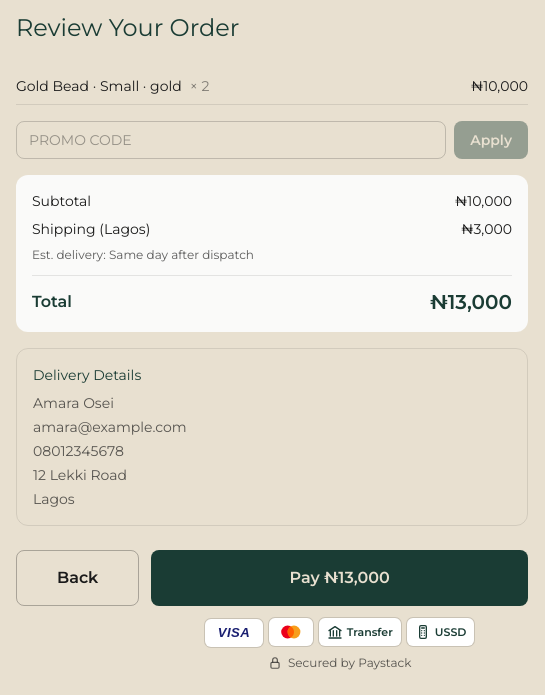
OrderReview — promo code (free shipping) › shows success message after applying a valid free-shipping code
Expected: the text "₦3,000" is shown, [461, 219, 512, 239]
Step 1. Type "FREESHIP" into the field with placeholder "Promo code" → [231, 140], box [16, 121, 446, 159]
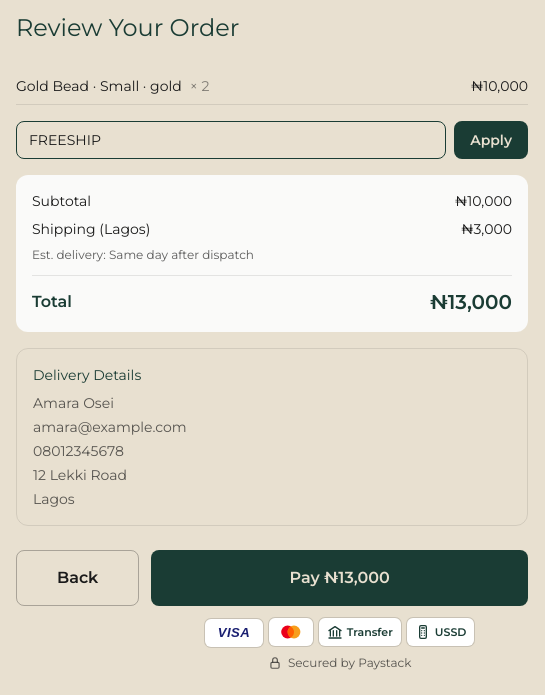
Step 2. Click the button "Apply" → [491, 140], box [454, 121, 528, 159]
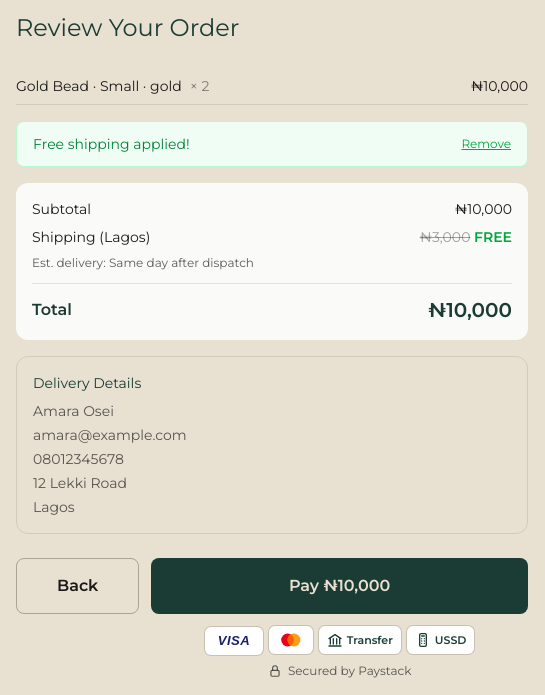
Now the text "Free shipping applied!" is shown, box [33, 134, 190, 154]
